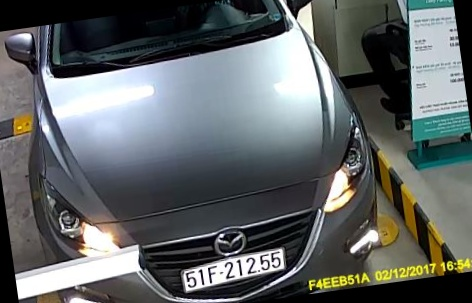plate: (173, 246, 289, 298)
